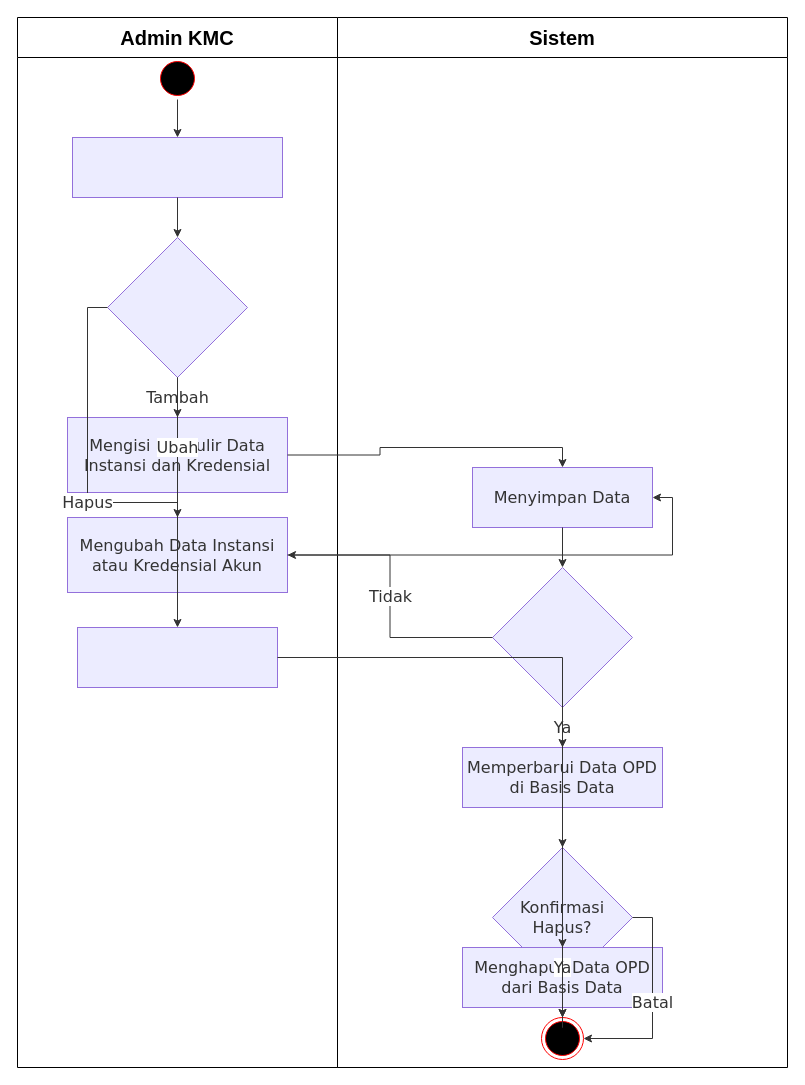
This 805x1085 diagram has some shape labels left out. The shapes that lost their labels are listed below. From the top down, each one's centre as x and y in pixels, then its label:
the point at 177,167: Mengakses Halaman Manajemen OPD
the point at 177,307: Pilih Tindakan?
the point at 177,657: Menekan Tombol Hapus OPD
the point at 562,637: Validasi Data?
